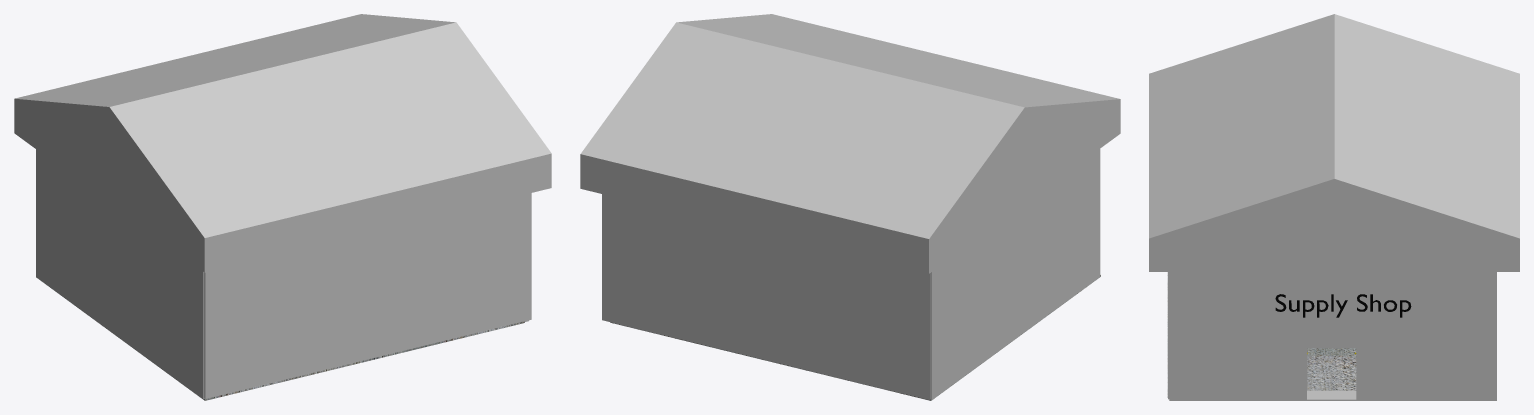
File: Shop.fbx
3 renders of one model, left to right at view 1: azimuth 30°, elevation 25°; view 2: azimuth 150°, elevation 25°; view 3: azimuth 270°, elevation 25°, orthographic. The views are drawn at different scales.
Parts seen in each view (by area): view 1: Roof, LeftWall, LeftWall.002, Plane; view 2: Roof, RightWall, LeftWall.002, Plane; view 3: Roof, FrontWall, Plane, SupplyShop, RightWall, FrontWall.001.
Boxes of the visible parts, x1,y1,x2,y2 form: Roof: (14,14,551,272); LeftWall: (204,193,528,398); LeftWall.002: (36,149,204,399); Plane: (36,277,524,400); Roof: (580,14,1120,273); RightWall: (602,194,930,400); LeftWall.002: (931,149,1100,399); Plane: (610,275,1100,400); Roof: (1149,14,1519,271); FrontWall: (1169,272,1491,400); Plane: (1167,272,1356,397); SupplyShop: (1275,294,1411,317); RightWall: (1491,272,1496,400); FrontWall.001: (1307,390,1356,398).
Bounding box in the file's own units: 40.5 × 26.04 × 38.52.
